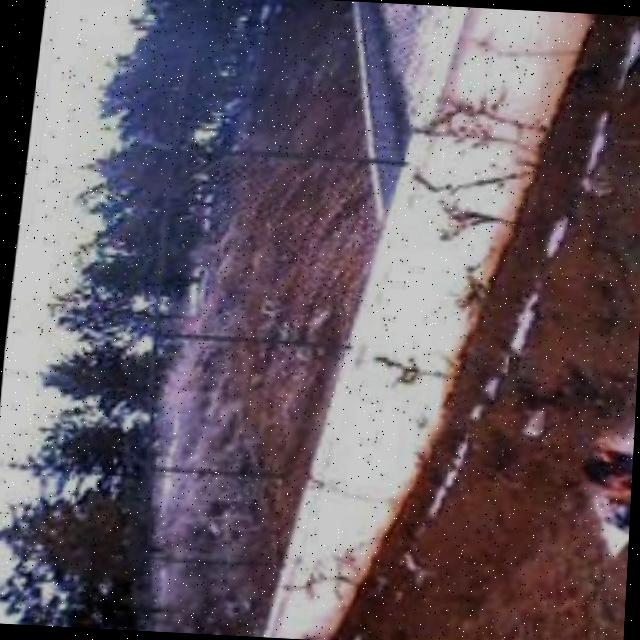fire: (574, 433, 634, 542)
